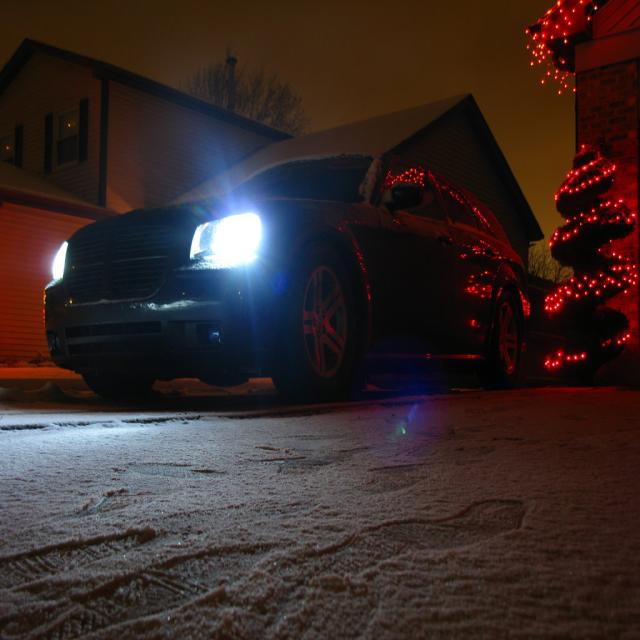Car: (41, 152, 529, 396)
